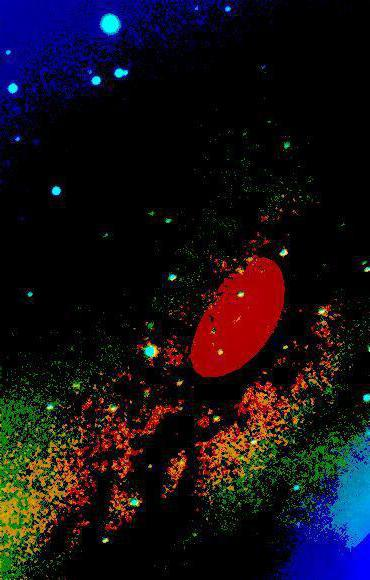star: (232, 123, 262, 153)
